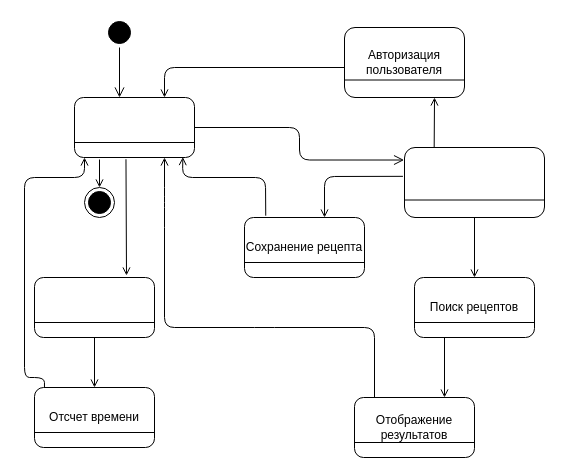
The diagram is 563 pixels wide and 475 high, and some of its shapes have lost their labels. Each missing label, with the centre of its shape:
Обработка введенных данных: the point at 474,182
Ожидание: the point at 134,127
Отображение рецепта: the point at 94,307
